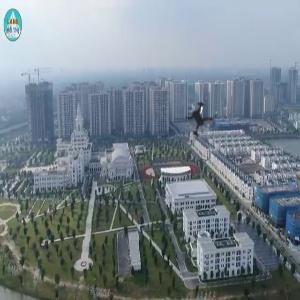drone: (168, 87, 236, 155)
